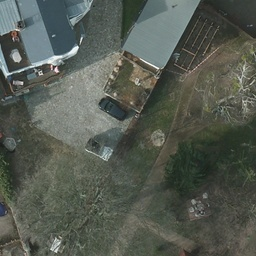car: (98, 97, 127, 120)
